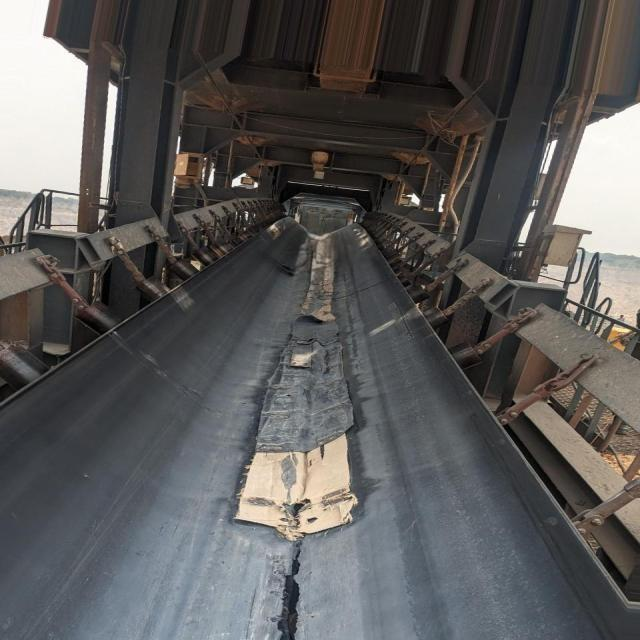Tear: (277, 527, 311, 640)
